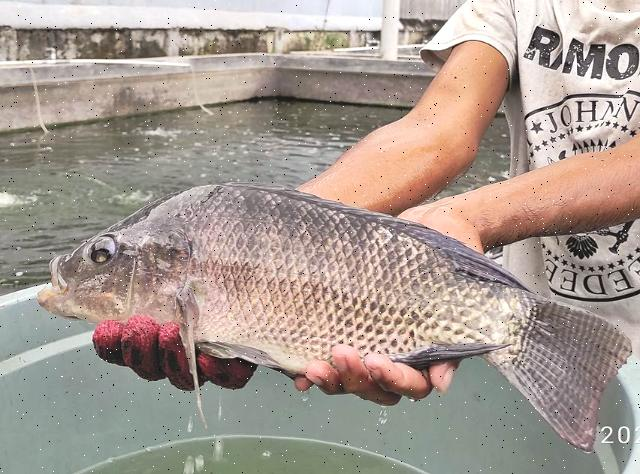Mulut: (11, 240, 94, 332)
Sirip Dada: (159, 276, 229, 442)
Sirip Ekor: (486, 258, 640, 470)
Sirip Perut: (195, 323, 281, 391)
